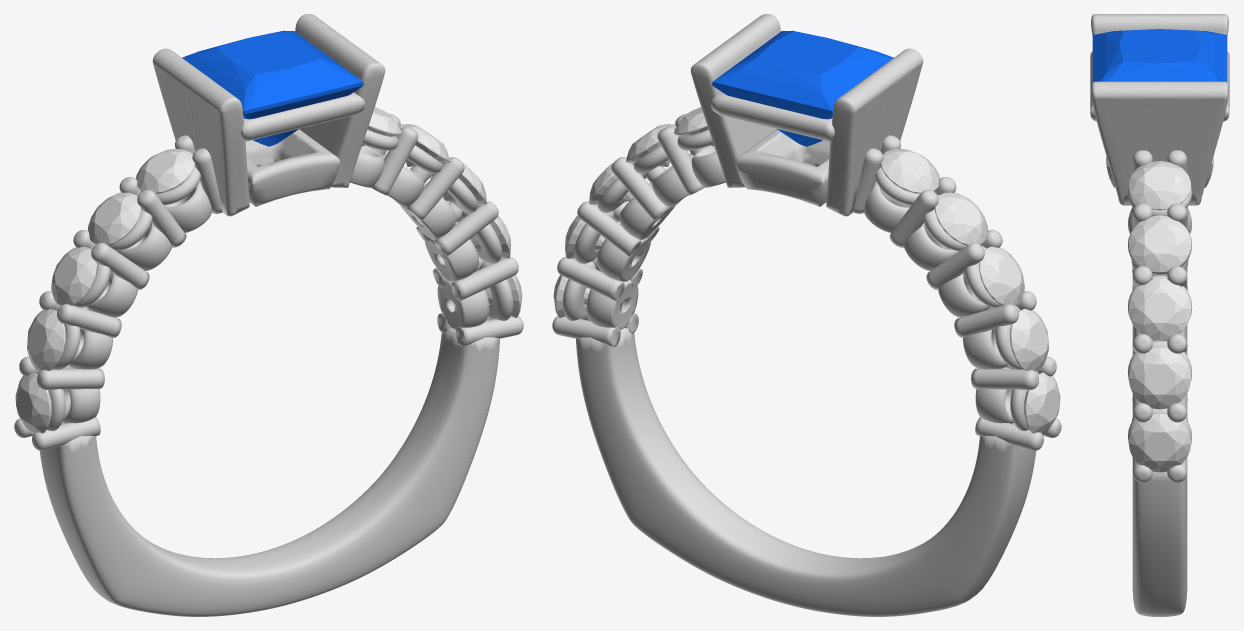
Rendered from bluesapphire-princess-platinum-halfmoonbezel-europeanshank-11stone.glb.
The picture shows the model from 3 angles, left to right: view 1: azimuth 30°, elevation 25°; view 2: azimuth 150°, elevation 25°; view 3: azimuth 270°, elevation 25°; orthographic projection. The views are drawn at different scales.
Visible parts, largest first — view 1: metal, stone, side.004, side.003, side.005, side.002, side, side.007; view 2: metal, stone, side.004, side.003, side.005, side.002, side, side.007; view 3: metal, stone, side.009, side.008, side.007, side.001, side.006.
Boxes of the visible parts, x1=… form: metal: x1=14, y1=14, x2=523, y2=616; stone: x1=182, y1=30, x2=363, y2=146; side.004: x1=88, y1=192, x2=140, y2=245; side.003: x1=51, y1=246, x2=96, y2=305; side.005: x1=136, y1=149, x2=194, y2=193; side.002: x1=27, y1=308, x2=66, y2=371; side: x1=15, y1=372, x2=51, y2=434; side.007: x1=399, y1=124, x2=449, y2=166; metal: x1=552, y1=14, x2=1061, y2=616; stone: x1=712, y1=30, x2=893, y2=146; side.004: x1=935, y1=192, x2=987, y2=245; side.003: x1=979, y1=246, x2=1024, y2=305; side.005: x1=881, y1=149, x2=939, y2=193; side.002: x1=1009, y1=308, x2=1048, y2=371; side: x1=1024, y1=372, x2=1060, y2=434; side.007: x1=626, y1=124, x2=676, y2=166; metal: x1=1090, y1=14, x2=1229, y2=616; stone: x1=1092, y1=29, x2=1227, y2=82; side.009: x1=1129, y1=347, x2=1190, y2=409; side.008: x1=1129, y1=279, x2=1190, y2=340; side.007: x1=1129, y1=215, x2=1190, y2=272; side.001: x1=1129, y1=413, x2=1190, y2=472; side.006: x1=1129, y1=161, x2=1190, y2=210.
Size of the model in its own units: 22.23 by 23.65 by 5.6.
